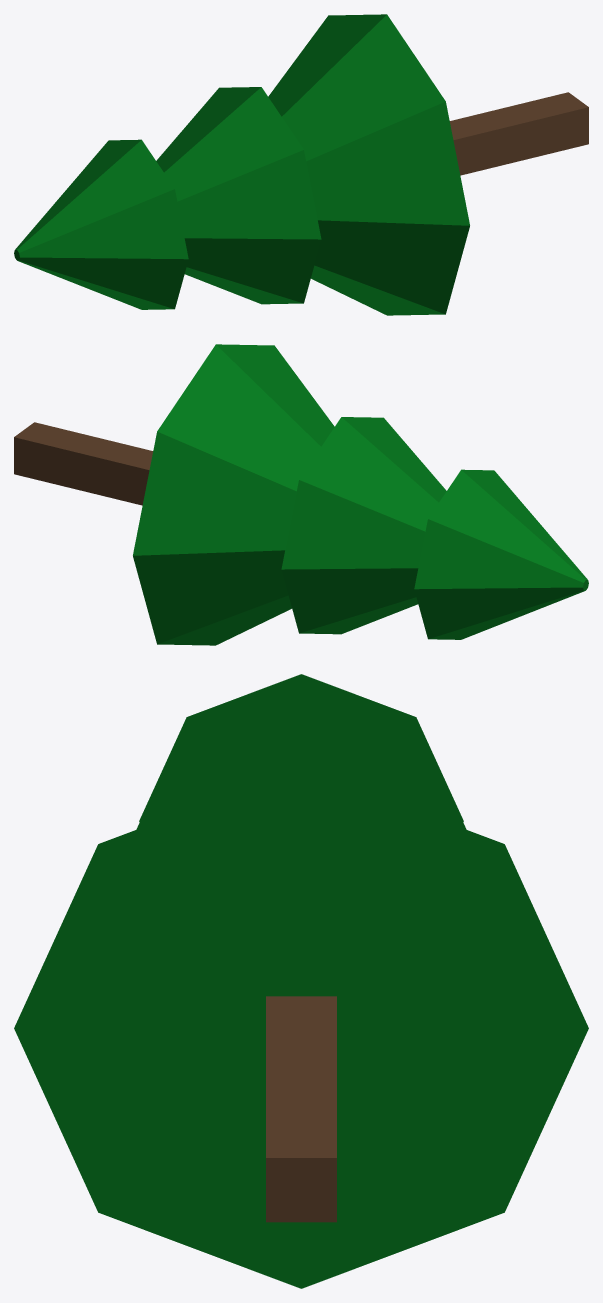
The model's file is Tree 1.fbx.
The picture shows the model from 3 angles, top to bottom: view 1: azimuth 30°, elevation 25°; view 2: azimuth 150°, elevation 25°; view 3: azimuth 270°, elevation 25°; orthographic projection. The views are drawn at different scales.
Parts seen in each view (by area): view 1: Tree 1.001; view 2: Tree 1.001; view 3: Tree 1.001.
Boxes of the visible parts, left/top/right/bottom form: Tree 1.001: left=14, top=14, right=588, bottom=315; Tree 1.001: left=14, top=344, right=588, bottom=645; Tree 1.001: left=14, top=674, right=588, bottom=1288.
Size of the model in its own units: 150 by 293 by 150.
